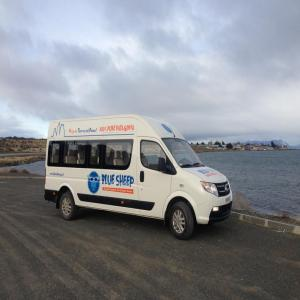Vehicle-registration-plate: (226, 197, 231, 208)
